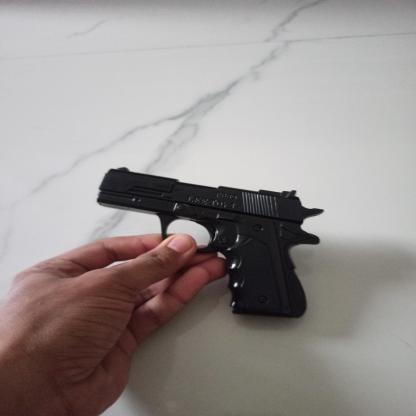handgun: (93, 166, 322, 320)
